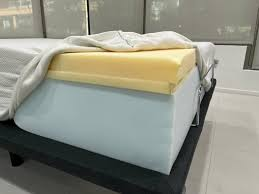bed-matress: (1, 40, 219, 173)
